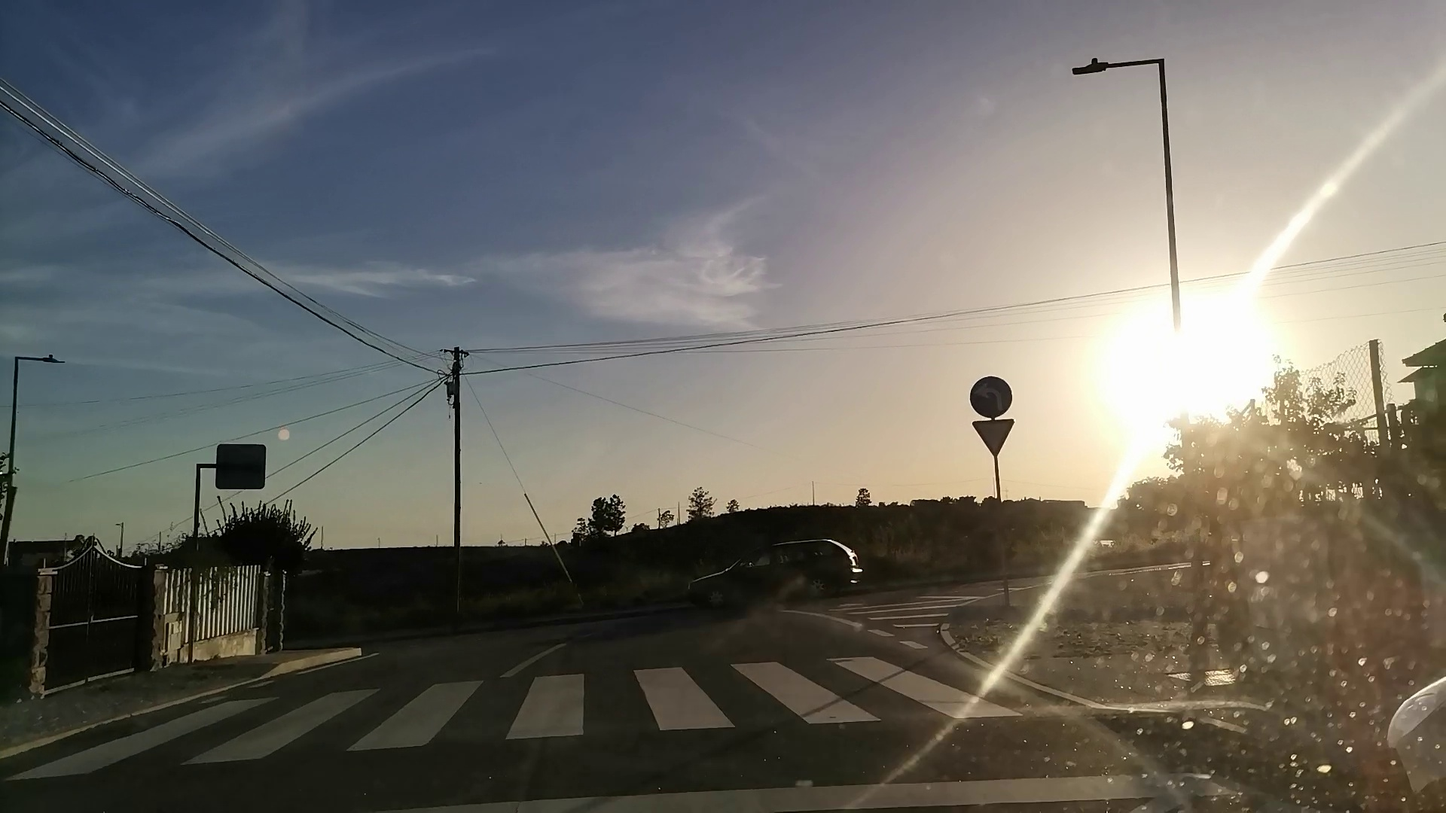Stairs: (5, 657, 1022, 778)
